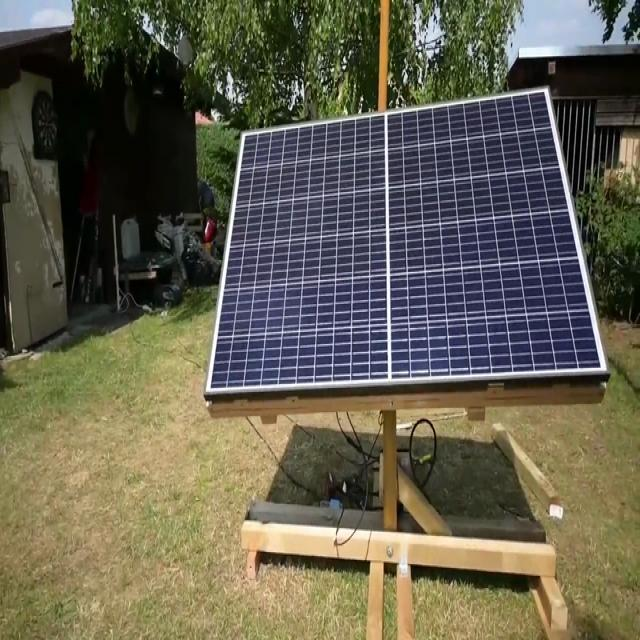Normal Solar Panel: (209, 92, 602, 393)
